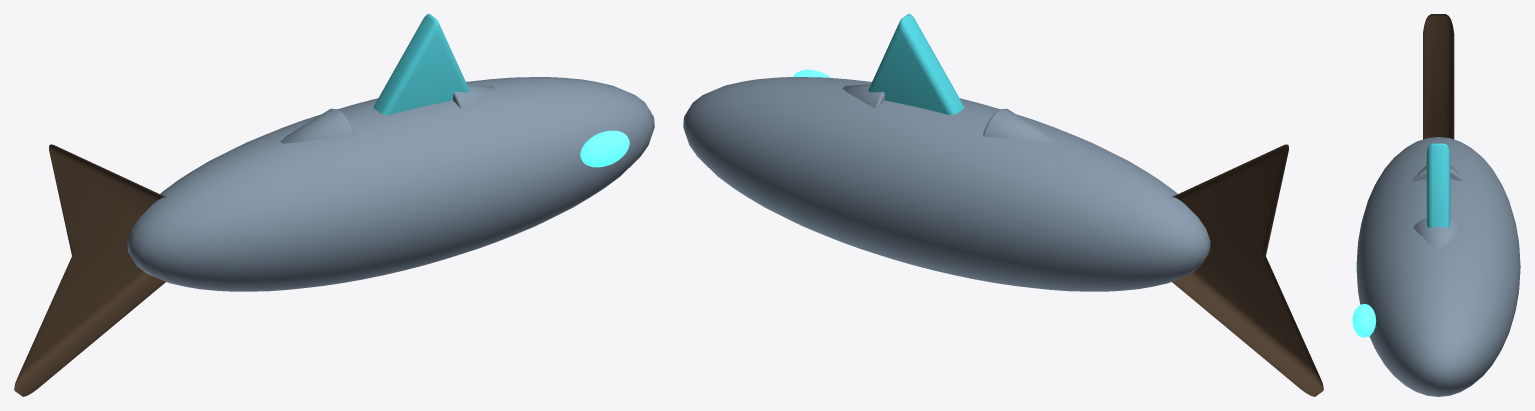
Rendered from aquatic_v5.glb.
3 views of the same model, side by side, from view 1: azimuth 30°, elevation 25°; view 2: azimuth 150°, elevation 25°; view 3: azimuth 270°, elevation 25° (orthographic). The views are drawn at different scales.
Visible parts, largest first — view 1: SHARK_BODY_PRIMARY, SHARK_TAIL_SECONDARY, SHARK_DORSAL_ACCENT, SHOULDER_TUSK_PRIMARY, EYE_EMISSIVE, SHOULDER_TUSK_PRIMARY.001; view 2: SHARK_BODY_PRIMARY, SHARK_TAIL_SECONDARY, SHARK_DORSAL_ACCENT, SHOULDER_TUSK_PRIMARY, SHOULDER_TUSK_PRIMARY.001; view 3: SHARK_BODY_PRIMARY, SHARK_TAIL_SECONDARY, SHARK_DORSAL_ACCENT, SHOULDER_TUSK_PRIMARY.001, EYE_EMISSIVE, SHOULDER_TUSK_PRIMARY.
Part boxes in pixels (box(x1,y1,x2,y2)): SHARK_BODY_PRIMARY: box(127, 77, 654, 291); SHARK_TAIL_SECONDARY: box(14, 144, 166, 396); SHARK_DORSAL_ACCENT: box(373, 14, 469, 115); SHOULDER_TUSK_PRIMARY: box(280, 108, 354, 143); EYE_EMISSIVE: box(580, 130, 629, 167); SHOULDER_TUSK_PRIMARY.001: box(453, 84, 495, 108); SHARK_BODY_PRIMARY: box(683, 77, 1210, 291); SHARK_TAIL_SECONDARY: box(1171, 144, 1323, 396); SHARK_DORSAL_ACCENT: box(868, 14, 964, 115); SHOULDER_TUSK_PRIMARY: box(983, 108, 1057, 143); SHOULDER_TUSK_PRIMARY.001: box(842, 84, 884, 108); SHARK_BODY_PRIMARY: box(1356, 137, 1520, 396); SHARK_TAIL_SECONDARY: box(1423, 14, 1454, 139); SHARK_DORSAL_ACCENT: box(1426, 143, 1450, 228); SHOULDER_TUSK_PRIMARY.001: box(1413, 217, 1463, 247); EYE_EMISSIVE: box(1352, 304, 1376, 337); SHOULDER_TUSK_PRIMARY: box(1413, 165, 1463, 181).
Size of the model in its own units: 3.07 by 1.28 by 0.7907.
